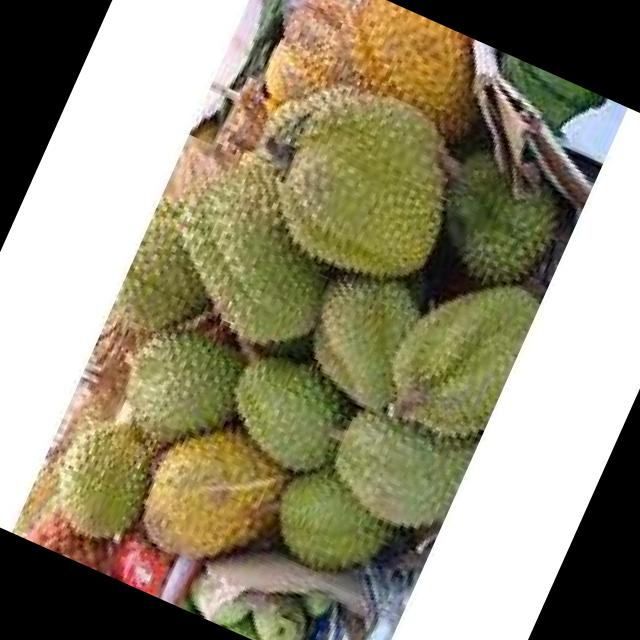fruit: (194, 0, 534, 332), (128, 117, 398, 386), (100, 382, 330, 610)
